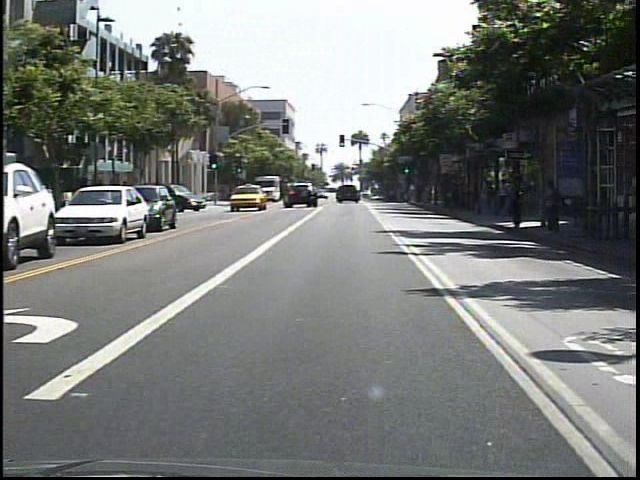person: (511, 165, 534, 233), (544, 177, 566, 241), (501, 179, 517, 218)
